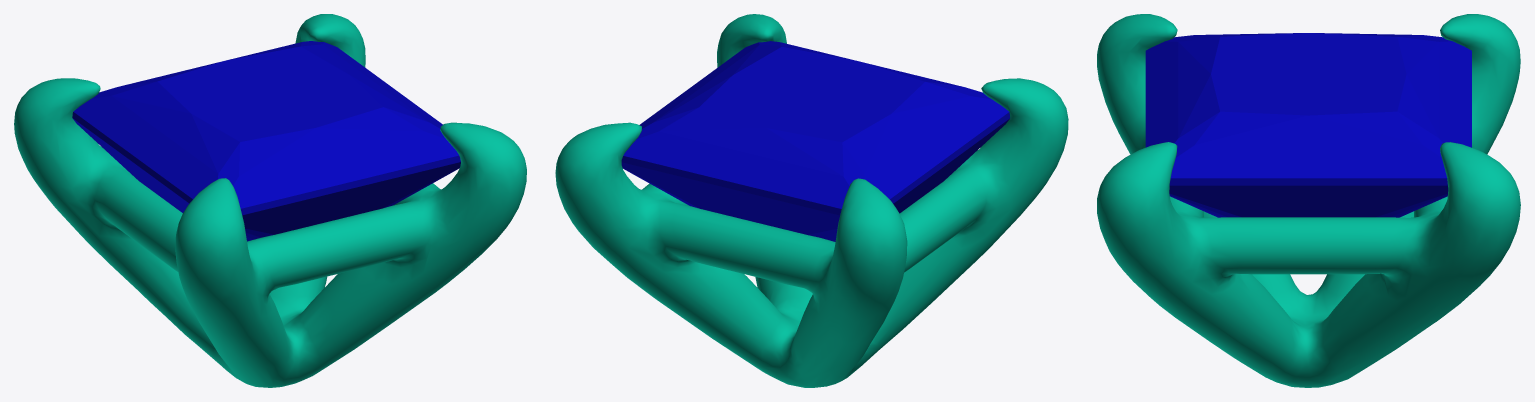
Rendered from Princess.glb.
3 views of the same model, side by side, from view 1: azimuth 30°, elevation 25°; view 2: azimuth 150°, elevation 25°; view 3: azimuth 270°, elevation 25° (orthographic). The views are drawn at different scales.
Parts seen in each view (by area): view 1: /GSMOD388300- CLAW PRONG_Princess_IJ.3dm, Diamond_Princess; view 2: /GSMOD388300- CLAW PRONG_Princess_IJ.3dm, Diamond_Princess; view 3: /GSMOD388300- CLAW PRONG_Princess_IJ.3dm, Diamond_Princess.
Part boxes in pixels (box(x1,y1,x2,y2)): /GSMOD388300- CLAW PRONG_Princess_IJ.3dm: box(14, 14, 526, 387); Diamond_Princess: box(72, 41, 460, 241); /GSMOD388300- CLAW PRONG_Princess_IJ.3dm: box(555, 14, 1068, 387); Diamond_Princess: box(621, 41, 1009, 241); /GSMOD388300- CLAW PRONG_Princess_IJ.3dm: box(1097, 14, 1520, 387); Diamond_Princess: box(1145, 33, 1471, 217).
Size of the model in its own units: 8.29 by 6.54 by 8.32.
